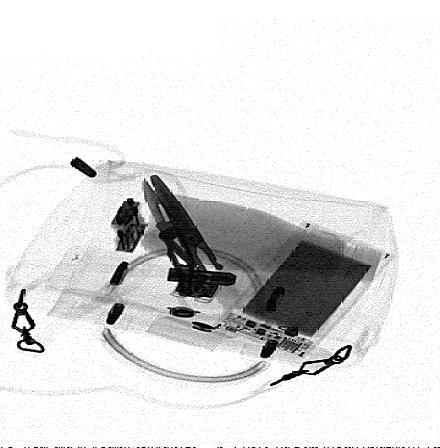Knife: (137, 176, 209, 298)
Powerbank: (216, 220, 403, 361)
Scissors: (146, 172, 284, 328)
